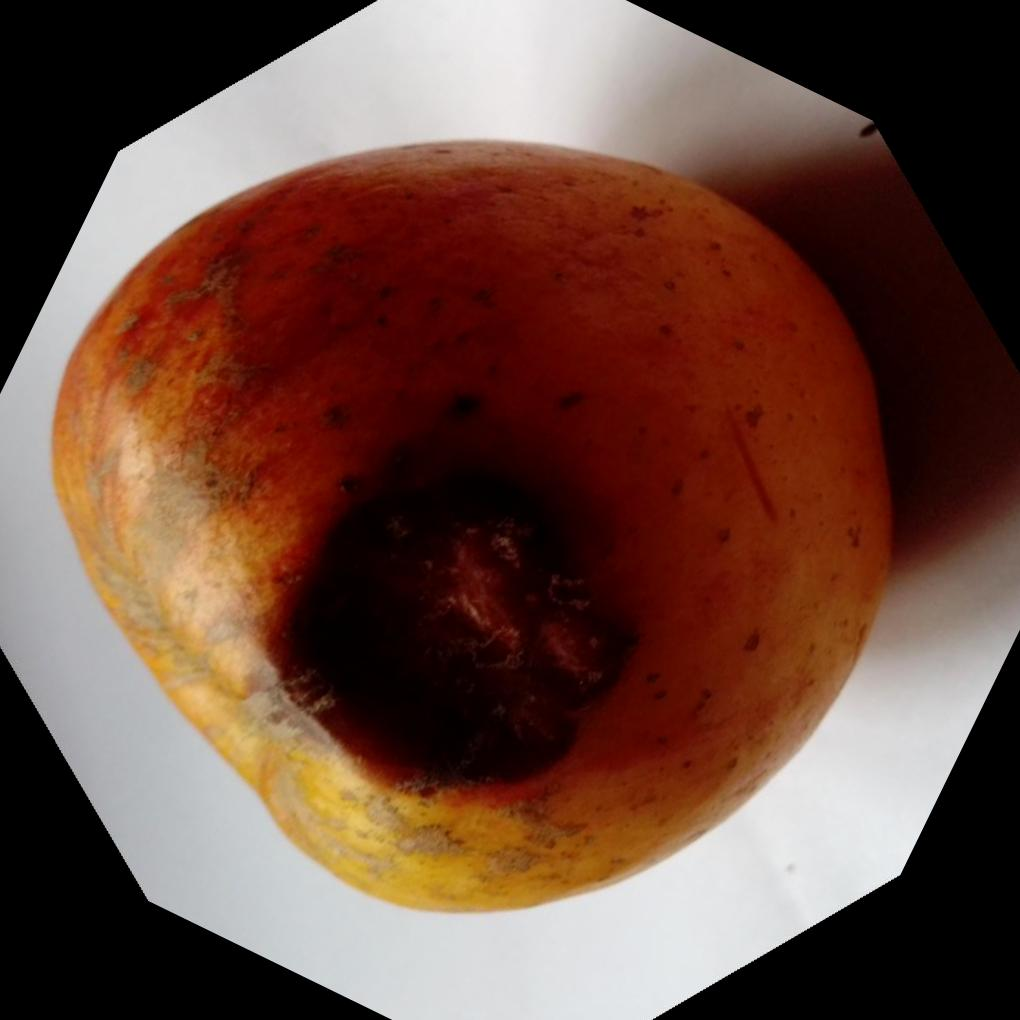FreshOrange: (49, 137, 899, 917)
